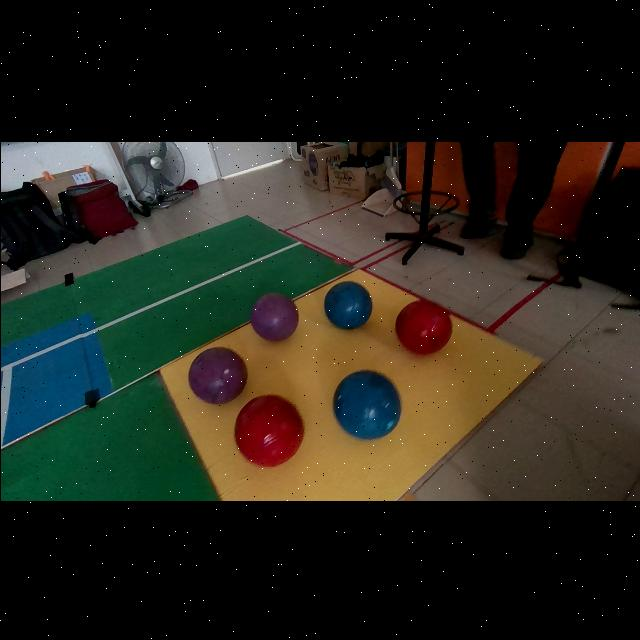B: (333, 370, 400, 438), (324, 279, 371, 328)
P: (188, 346, 247, 402), (249, 291, 298, 339)
R: (233, 393, 303, 465), (395, 299, 451, 352)
